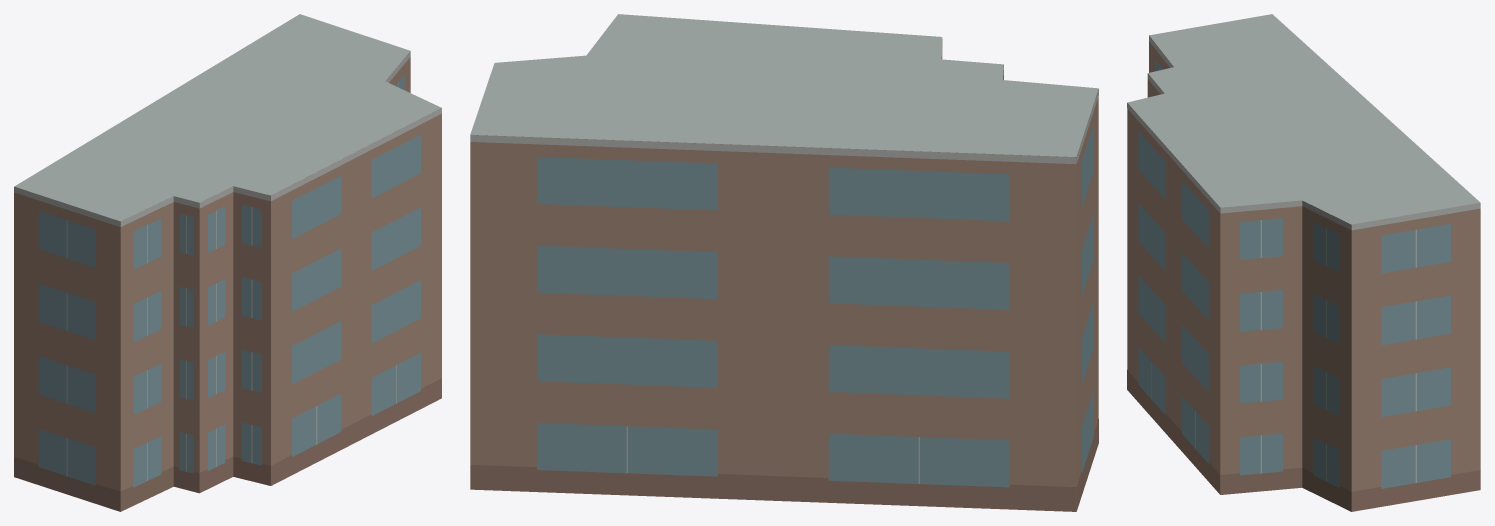
The model's file is survey-upis-32628341.glb.
The picture shows the model from 3 angles, left to right: view 1: azimuth 30°, elevation 25°; view 2: azimuth 150°, elevation 25°; view 3: azimuth 270°, elevation 25°; orthographic projection. The views are drawn at different scales.
Visible parts, largest first — view 1: survey-upis-32628341.tmp; view 2: survey-upis-32628341.tmp; view 3: survey-upis-32628341.tmp.
Boxes of the visible parts, <box> form: survey-upis-32628341.tmp: <box>14,14,441,511</box>; survey-upis-32628341.tmp: <box>470,14,1098,511</box>; survey-upis-32628341.tmp: <box>1127,14,1480,511</box>.
Bounding box in the file's own units: 19.2 × 12.2 × 13.62.
